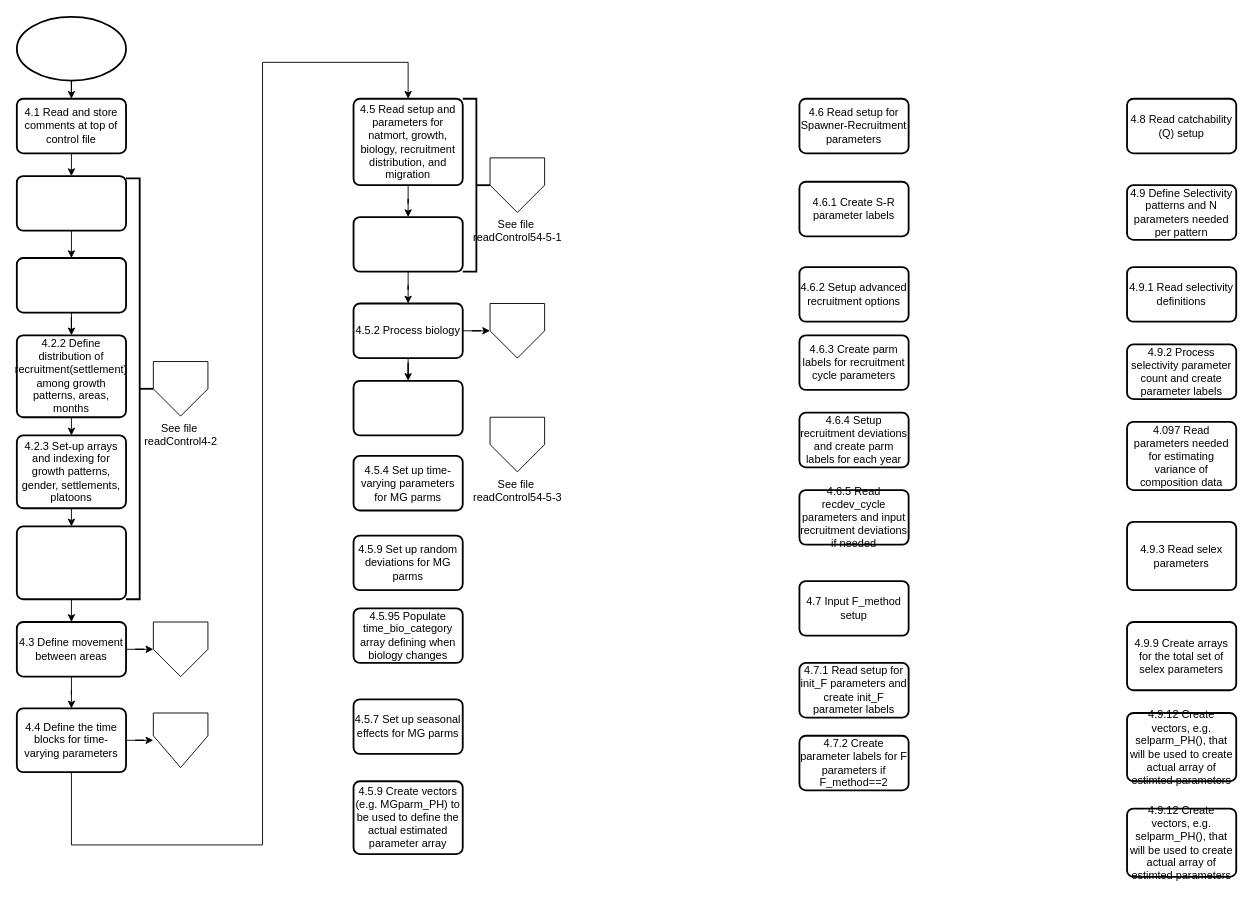
Some shapes in this 1253 by 897 pixel diagram are drawn without their labels. The shapes that lost their labels are listed below. From the top down, each one's centre as x and y in pixels, then its label:
the point at 70,48: 4.0 Begin Reading from Control File
the point at 70,203: 4.2 Read info for growth patterns, gender, settlement events, platoons
the point at 407,244: 4.5.1 Create time constants for growth
the point at 70,285: 4.2.1 Assign distribution among growth platoons if needed
the point at 517,330: See file readControl54-5-2
the point at 407,407: 4.5.3 Set up indexing and parameter names for MG parameters
the point at 70,562: 4.2.1.1 Define indexing vectors to keep track of characteristics of each morph
the point at 180,649: See file readControl4-3
the point at 180,740: See file readControl4-4
